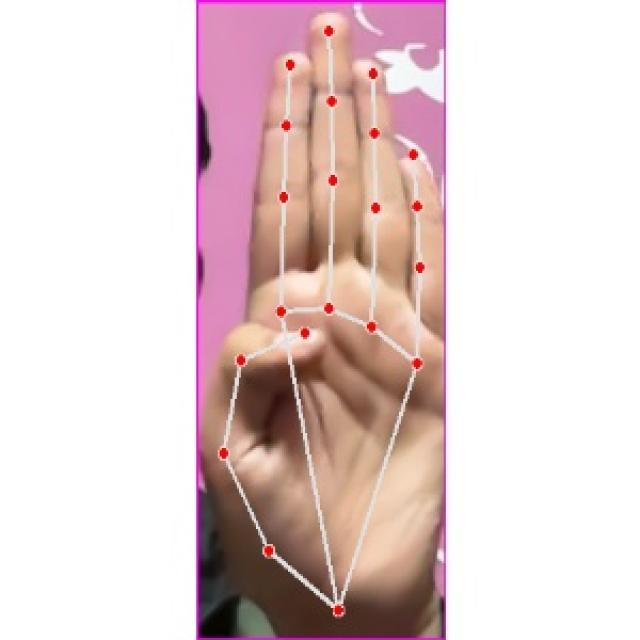B: (201, 2, 446, 640)
